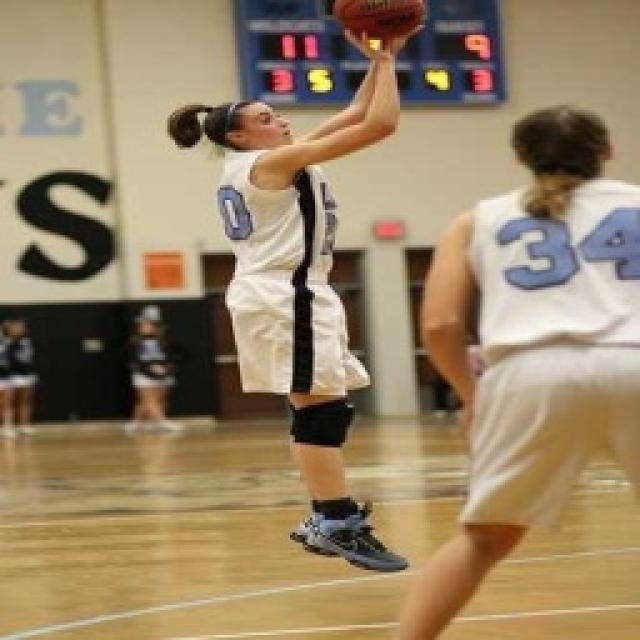rim: (325, 0, 433, 50)
